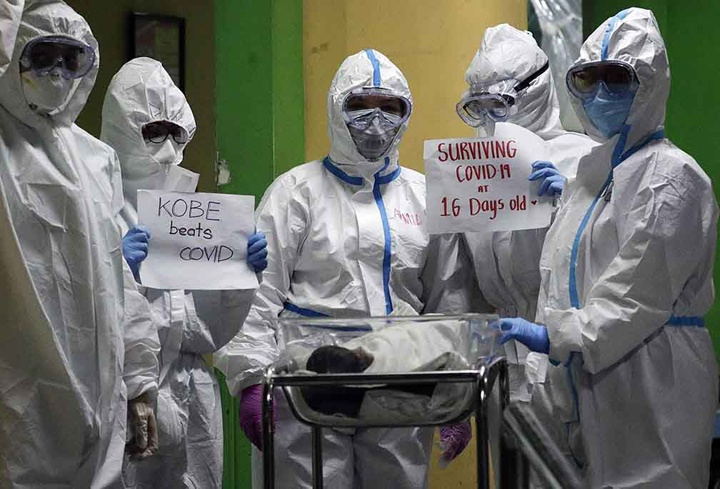Coverall: (539, 21, 712, 484), (237, 48, 456, 347), (1, 1, 116, 489)
Gloves: (122, 378, 168, 462), (490, 314, 566, 360), (235, 378, 280, 449), (527, 156, 578, 202), (115, 224, 156, 278), (240, 230, 275, 274)
Goggles: (562, 56, 645, 104), (20, 32, 98, 81), (452, 78, 519, 131), (342, 87, 414, 130)
with_mask: (569, 63, 644, 137), (22, 40, 86, 111), (343, 99, 404, 157), (138, 116, 189, 174)
